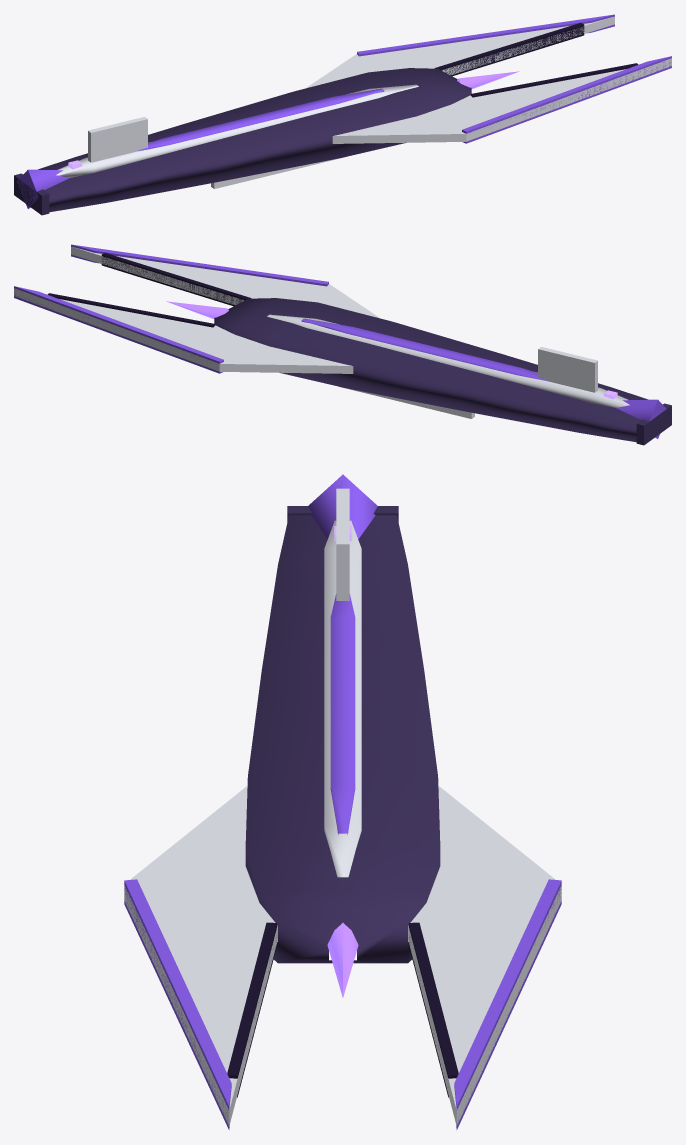
The model's file is herald-hadron.glb.
3 renders of one model, top to bottom at view 1: azimuth 30°, elevation 25°; view 2: azimuth 150°, elevation 25°; view 3: azimuth 270°, elevation 25°, orthographic. The views are drawn at different scales.
Parts seen in each view (by area): view 1: blade_hull, tine_s, tine_p, blade_spine, tine_edge_s, spine_inlay, dorsal_fin, tine_seam_p, tine_edge_p, drive_prism, transom, tine_seam_s (+2 smaller); view 2: blade_hull, tine_p, tine_s, blade_spine, spine_inlay, dorsal_fin, tine_edge_p, tine_seam_s, tine_edge_s, transom, tine_seam_p, drive_prism (+2 smaller); view 3: blade_hull, tine_p, tine_s, blade_spine, spine_inlay, tine_edge_s, tine_edge_p, tine_seam_s, tine_seam_p, drive_prism, dorsal_fin, emitter_crystal.
Part boxes in pixels (x1,y1,x2,y2): blade_hull: (38, 68, 471, 212); tine_s: (332, 58, 671, 143); tine_p: (305, 16, 614, 88); blade_spine: (56, 84, 418, 177); tine_edge_s: (462, 56, 671, 143); spine_inlay: (138, 88, 384, 151); dorsal_fin: (88, 117, 147, 162); tine_seam_p: (434, 23, 584, 76); tine_edge_p: (357, 14, 614, 56); drive_prism: (17, 169, 69, 208); transom: (14, 173, 49, 215); tine_seam_s: (470, 63, 638, 97); blade_hull: (214, 298, 647, 442); tine_p: (14, 288, 353, 373); tine_s: (71, 246, 380, 318); blade_spine: (267, 314, 629, 407); spine_inlay: (301, 318, 547, 381); dorsal_fin: (538, 347, 597, 392); tine_edge_p: (14, 286, 223, 373); tine_seam_s: (101, 253, 251, 306); tine_edge_s: (71, 244, 328, 286); transom: (636, 403, 671, 445); tine_seam_p: (47, 293, 215, 327); drive_prism: (616, 399, 666, 438); blade_hull: (245, 515, 440, 963); tine_p: (408, 786, 561, 1126); tine_s: (124, 786, 277, 1126); blade_spine: (324, 520, 361, 877); spine_inlay: (330, 594, 355, 834); tine_edge_s: (124, 879, 231, 1129); tine_edge_p: (454, 879, 561, 1129); tine_seam_s: (227, 922, 277, 1097); tine_seam_p: (408, 922, 458, 1097); drive_prism: (308, 474, 377, 539); dorsal_fin: (336, 488, 349, 600); emitter_crystal: (327, 923, 358, 997).
Bounding box in the file's own units: 65 × 8.7 × 20.
